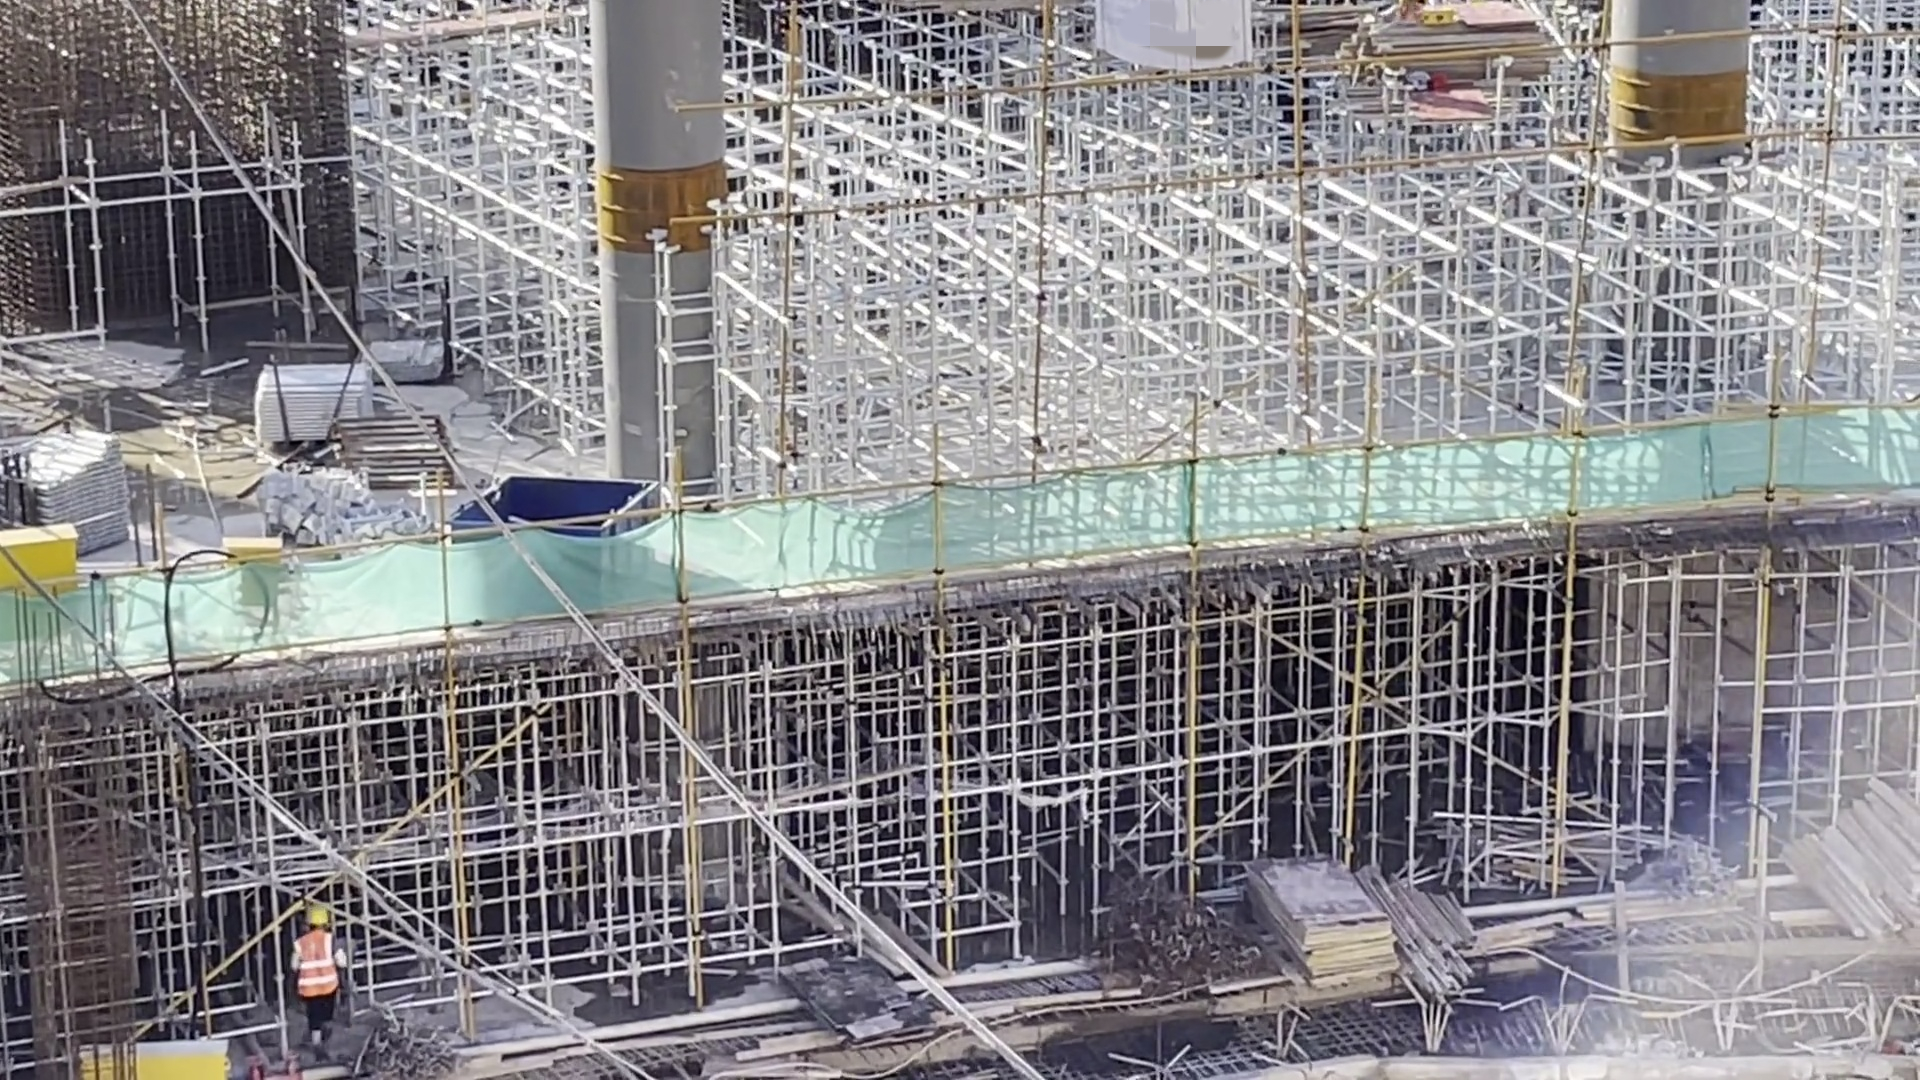board: (1254, 842, 1408, 984), (1415, 1, 1548, 82)
ebox: (13, 509, 94, 624), (183, 521, 289, 601)
helmet: (305, 908, 331, 929)
hopper: (469, 482, 656, 577)
person: (293, 918, 348, 1036)
scaffold: (4, 412, 119, 562), (253, 364, 361, 432)
vest: (306, 927, 331, 1002)
wood: (1783, 784, 1920, 926)
